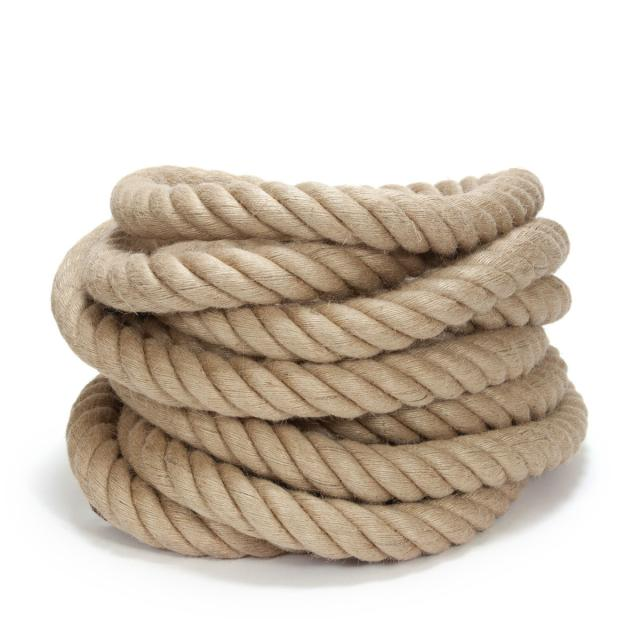Rope: (41, 158, 593, 564)
